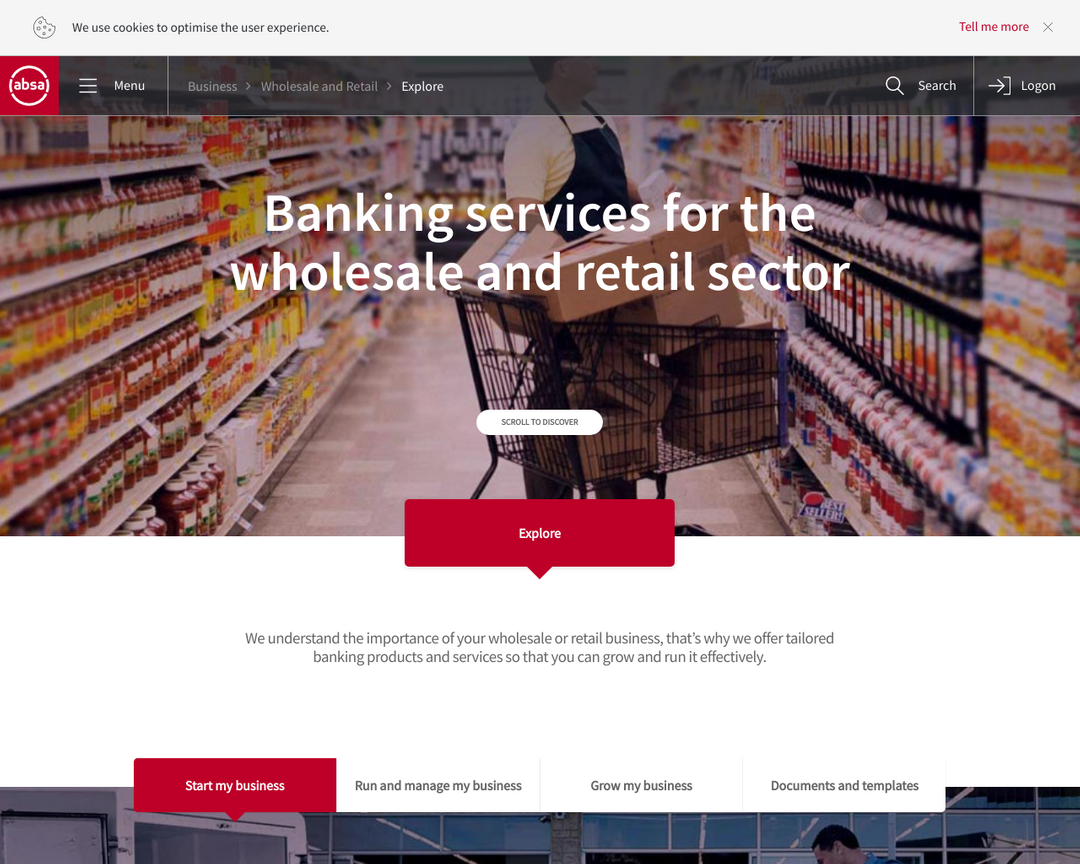ABSA: (9, 65, 50, 106)
